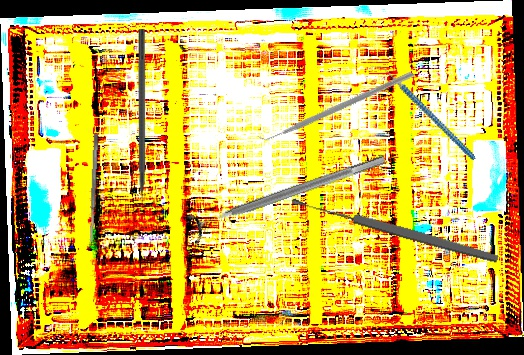Chopper: (251, 17, 416, 191), (370, 41, 476, 183)
Fixation Ring: (184, 144, 391, 246)
Hook Surgical: (137, 29, 146, 222)
Spatula Surgical: (87, 133, 100, 243)
Surgical Spoon: (289, 193, 501, 266)
